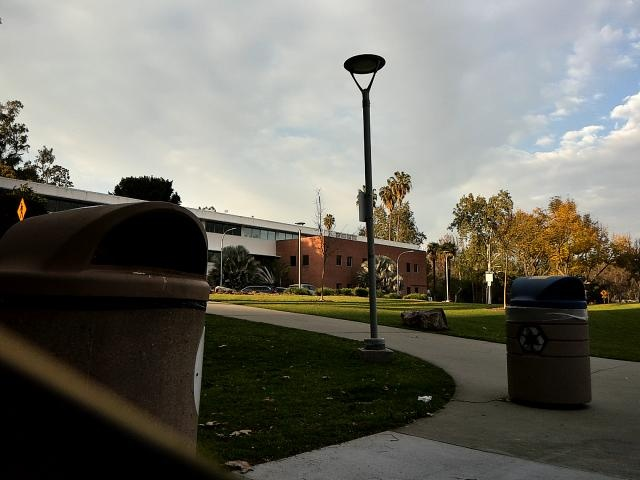trashcan: (1, 182, 237, 471), (491, 266, 597, 413)
